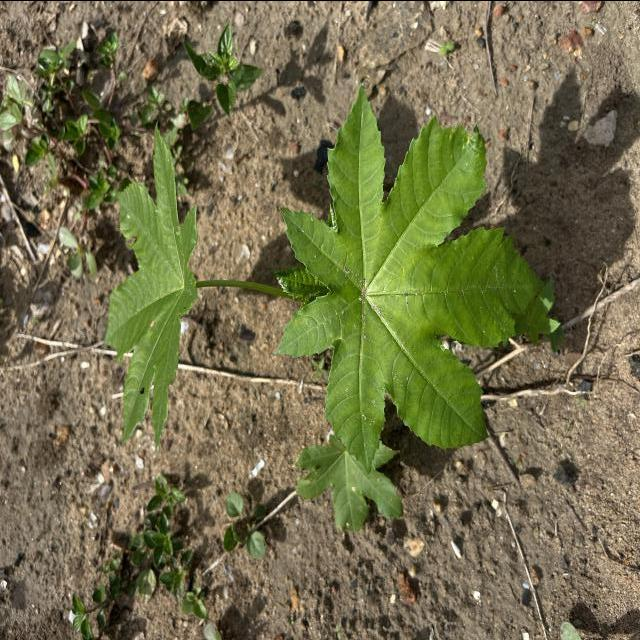Ricinus communis linn: (270, 78, 548, 476)
